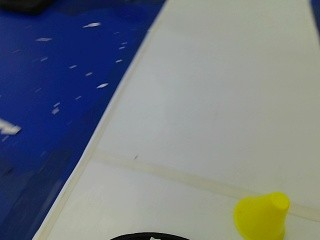cone: (233, 182, 291, 239)
